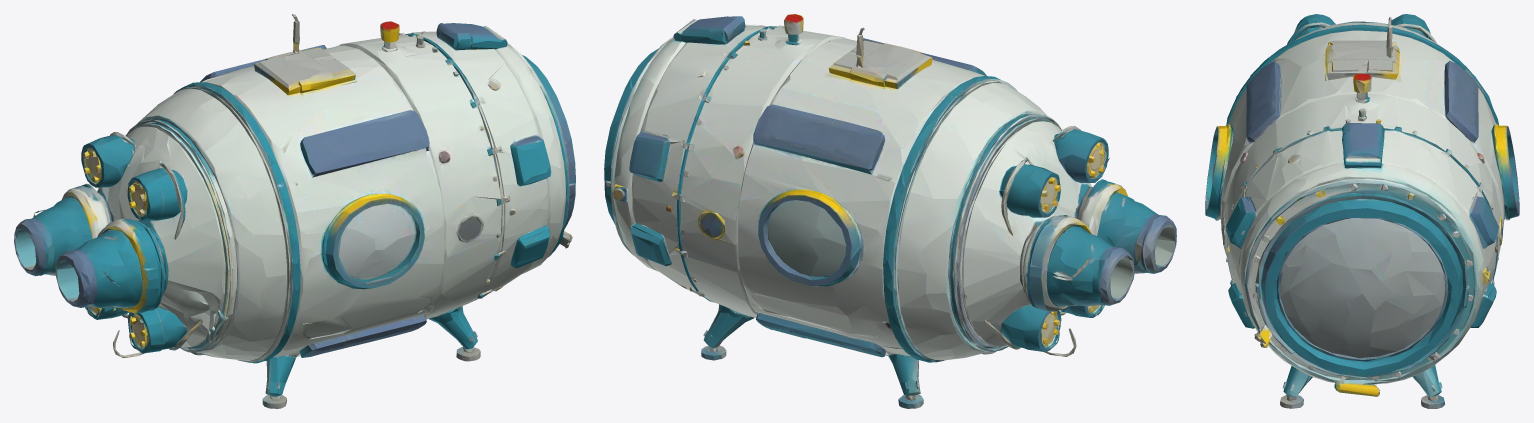
Rendered from habitat-module.gltf.
3 renders of one model, left to right at view 1: azimuth 30°, elevation 25°; view 2: azimuth 150°, elevation 25°; view 3: azimuth 270°, elevation 25°, orthographic. The views are drawn at different scales.
Size of the model in its own units: 1.9 by 1.24 by 1.08.
1 material, 1 textured.
